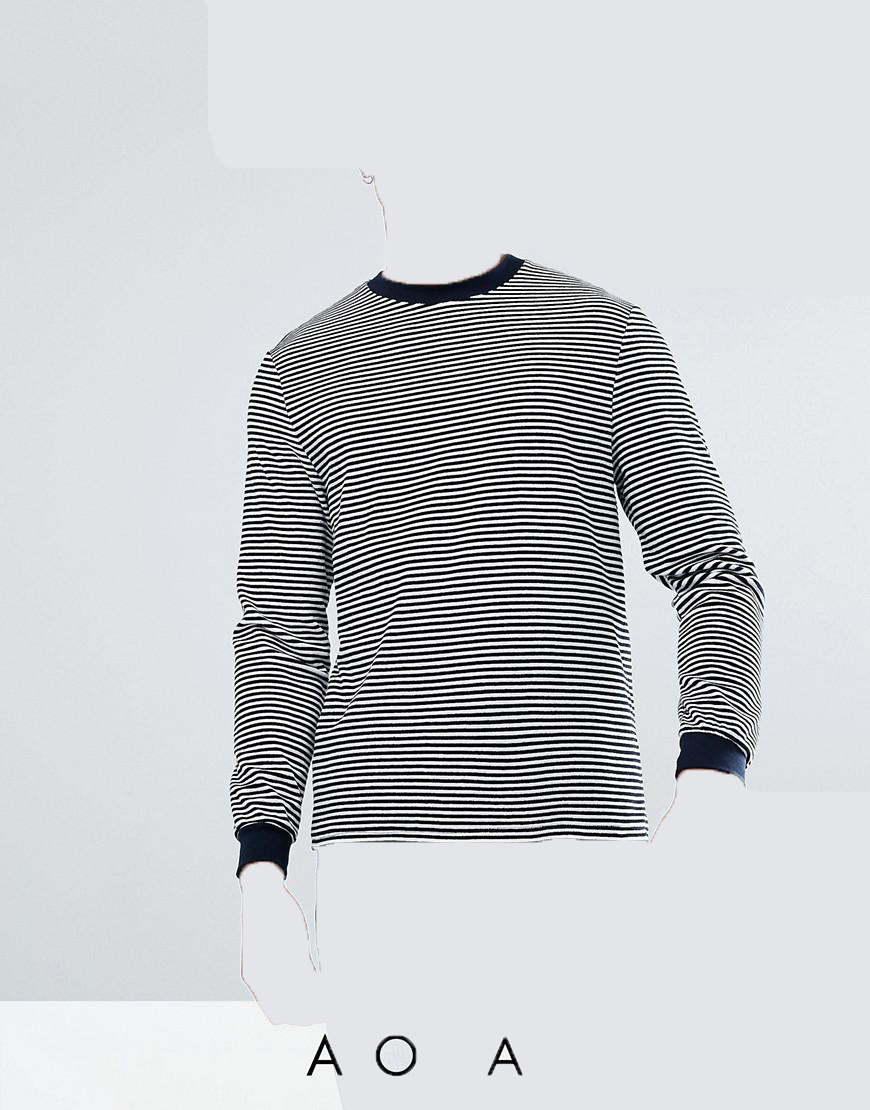teeshirt: (227, 249, 754, 866)
